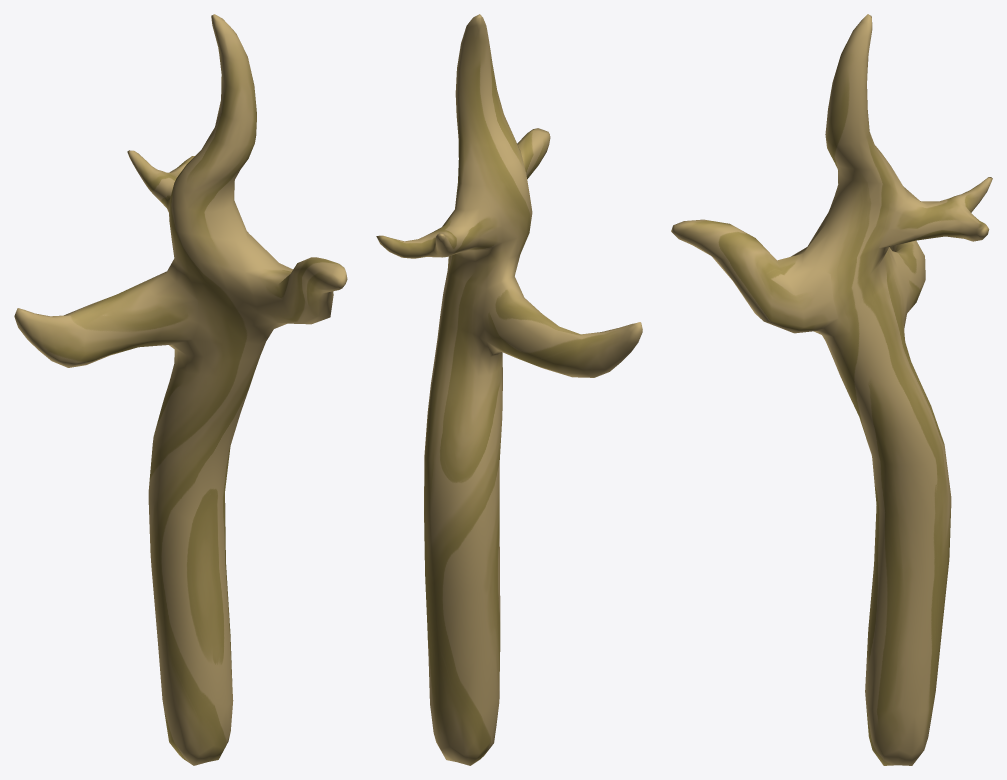
Rendered from FruitTree2.fbx.
3 renders of one model, left to right at view 1: azimuth 30°, elevation 25°; view 2: azimuth 150°, elevation 25°; view 3: azimuth 270°, elevation 25°, orthographic. The views are drawn at different scales.
Parts seen in each view (by area): view 1: FruitTree2; view 2: FruitTree2; view 3: FruitTree2.
Boxes of the visible parts, box(x1,y1,x2,y2) form: FruitTree2: box(14, 14, 347, 765); FruitTree2: box(376, 14, 642, 765); FruitTree2: box(671, 14, 992, 765).
Size of the model in its own units: 421 by 1209 by 472.
Materials: 1 (1 with a texture image).
